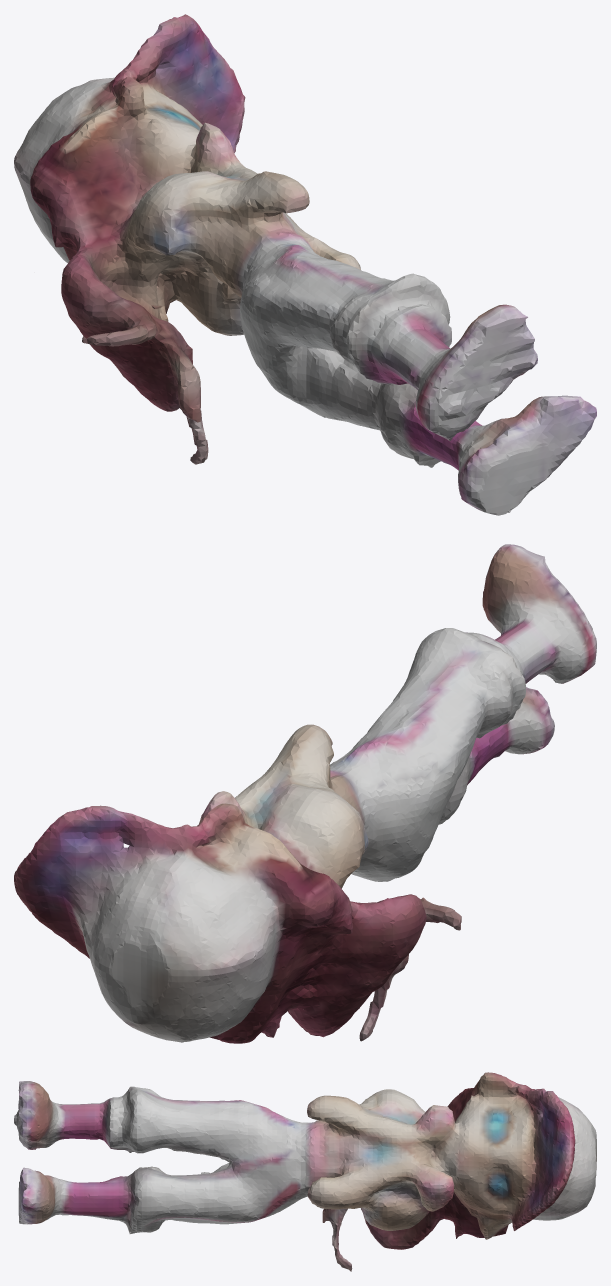
The picture shows the model from 3 angles, top to bottom: view 1: azimuth 30°, elevation 25°; view 2: azimuth 150°, elevation 25°; view 3: azimuth 270°, elevation 25°; orthographic projection. The views are drawn at different scales.
Visible parts, largest first — view 1: in_b9086836.obj; view 2: in_b9086836.obj; view 3: in_b9086836.obj.
Boxes of the visible parts, x1,y1,x2,y2 form: in_b9086836.obj: (14, 14, 596, 515); in_b9086836.obj: (14, 544, 596, 1043); in_b9086836.obj: (14, 1072, 596, 1271).
Size of the model in its own units: 0.838 by 0.819 by 1.99.
